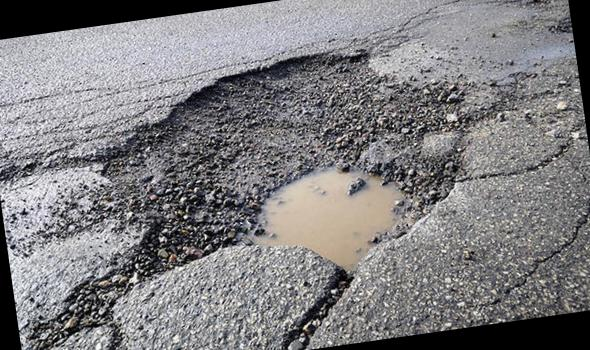pothole: (53, 12, 516, 326)
